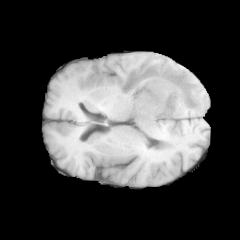glioma: (119, 63, 200, 151)
